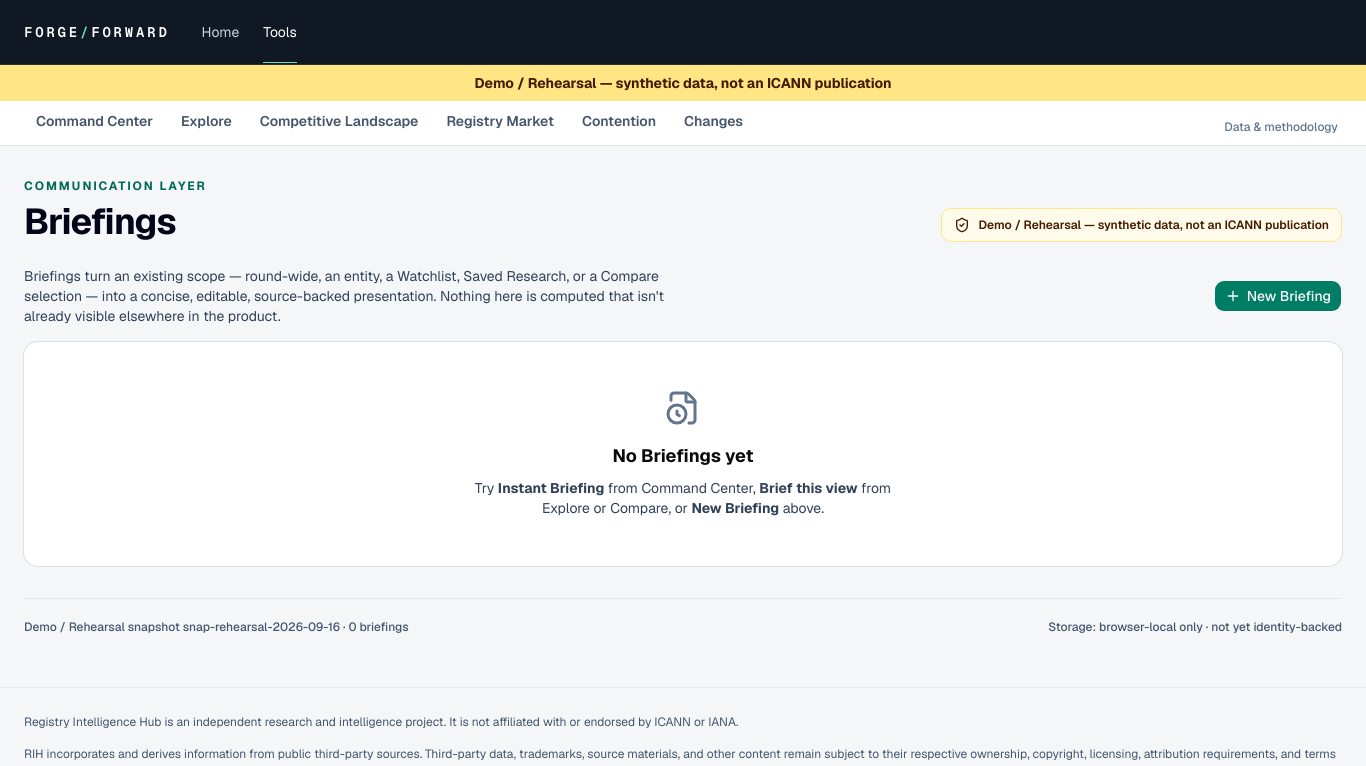
it: New Briefing wizard — portal layering, cancel, Escape, and Back (contained UX correction) › Escape on a dirty step opens the discard confirmation, and a second Escape only dismisses that confirmation (never both at once)
Click the button "New Briefing".
click(1278, 296)  # box [1214, 280, 1342, 312]
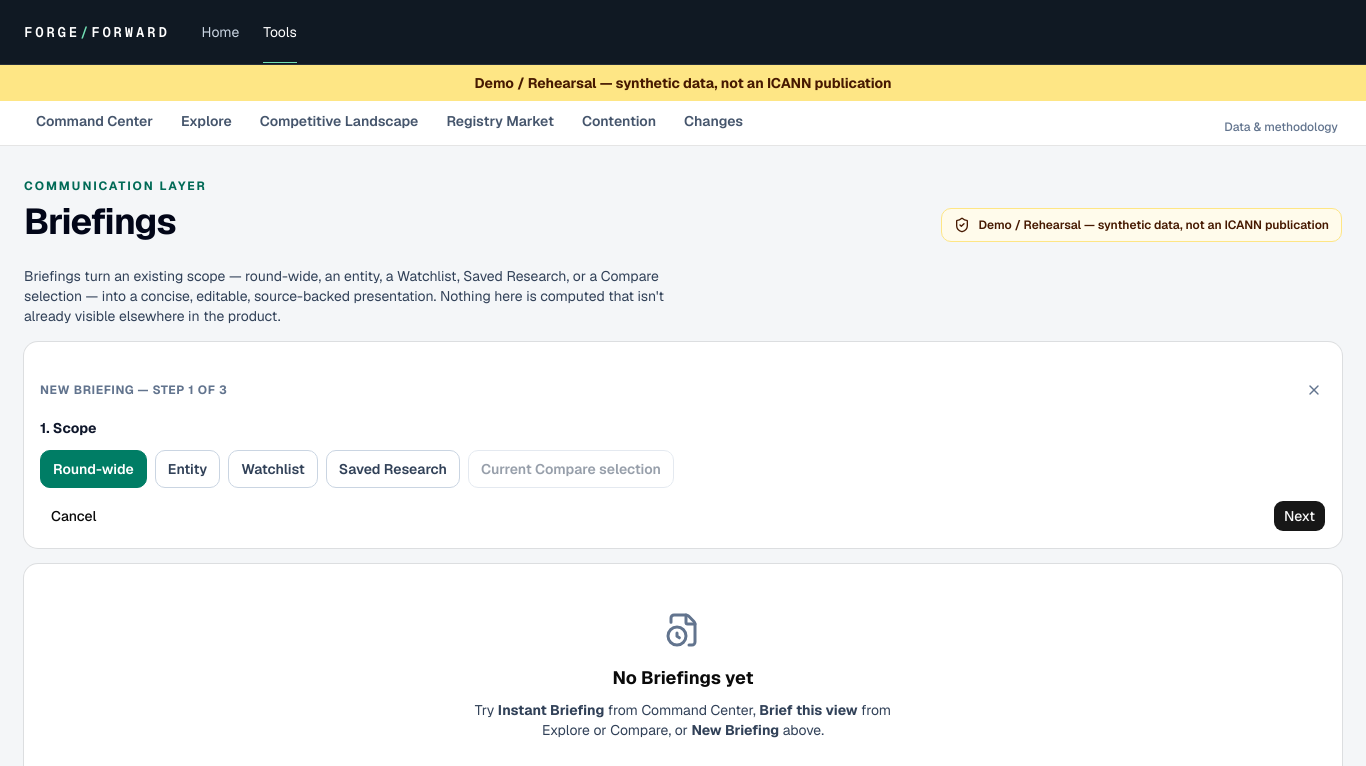
Click the button "Next".
click(1299, 516)  # box [1273, 500, 1326, 532]
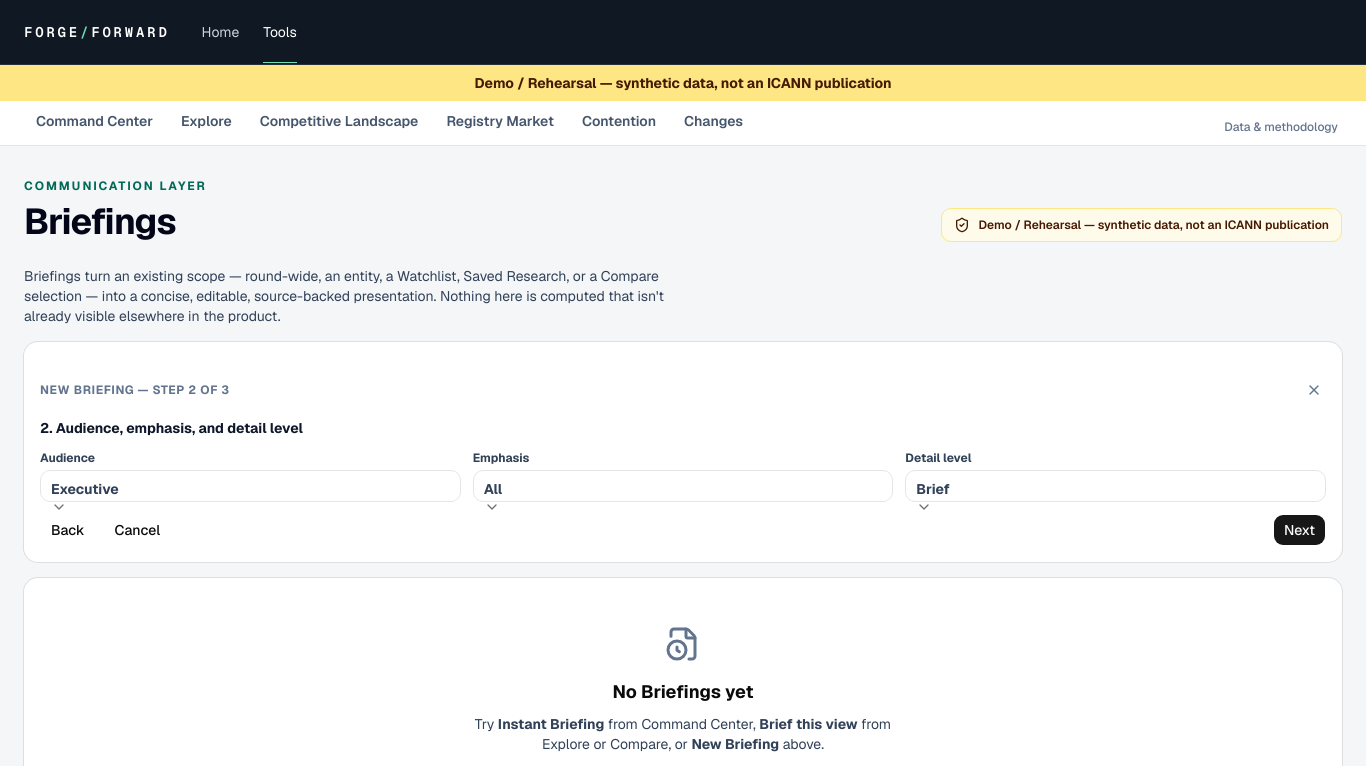
Press Escape
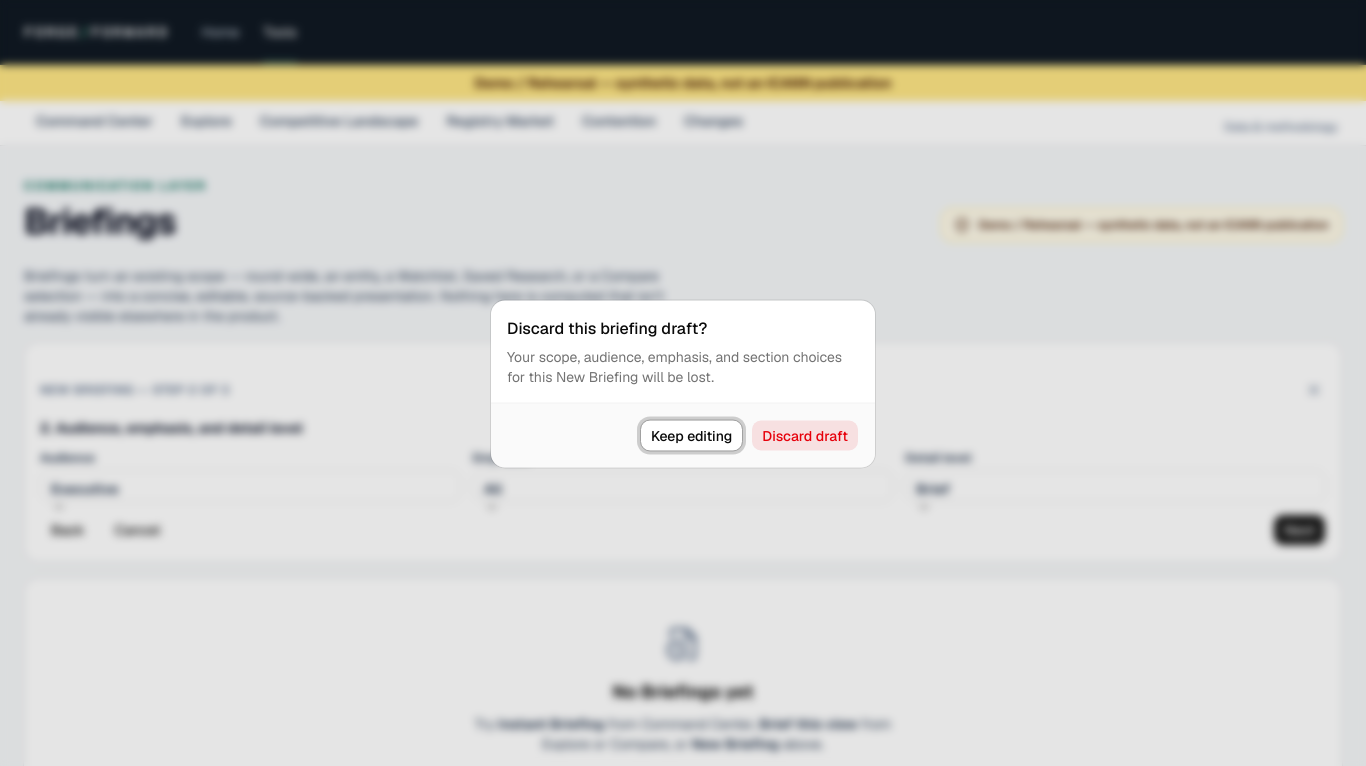
Expected: the heading "Discard this briefing draft?" is shown, [507, 316, 707, 340]
Press Escape
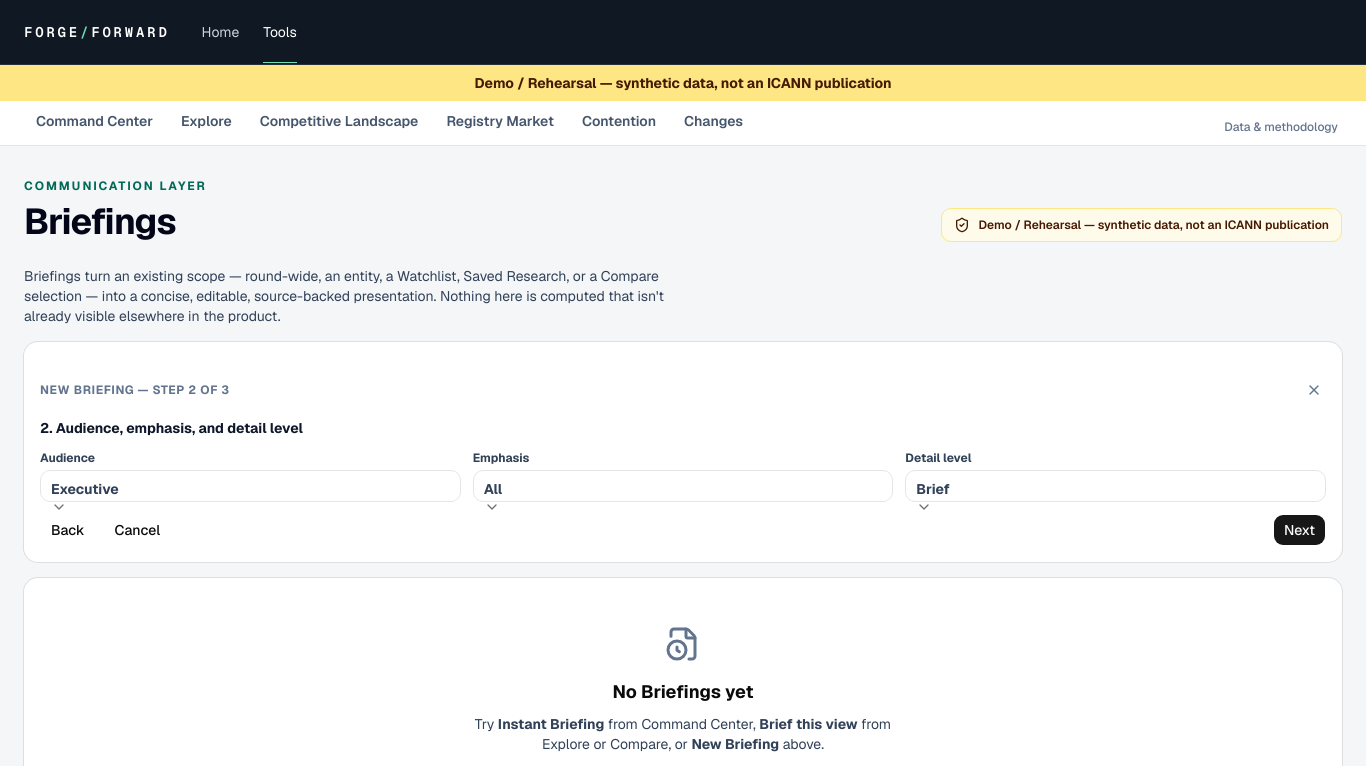
Expected: the text "New Briefing — step 2 of 3" is shown, [40, 382, 230, 398]
Expected: the heading "Discard this briefing draft?" is gone
